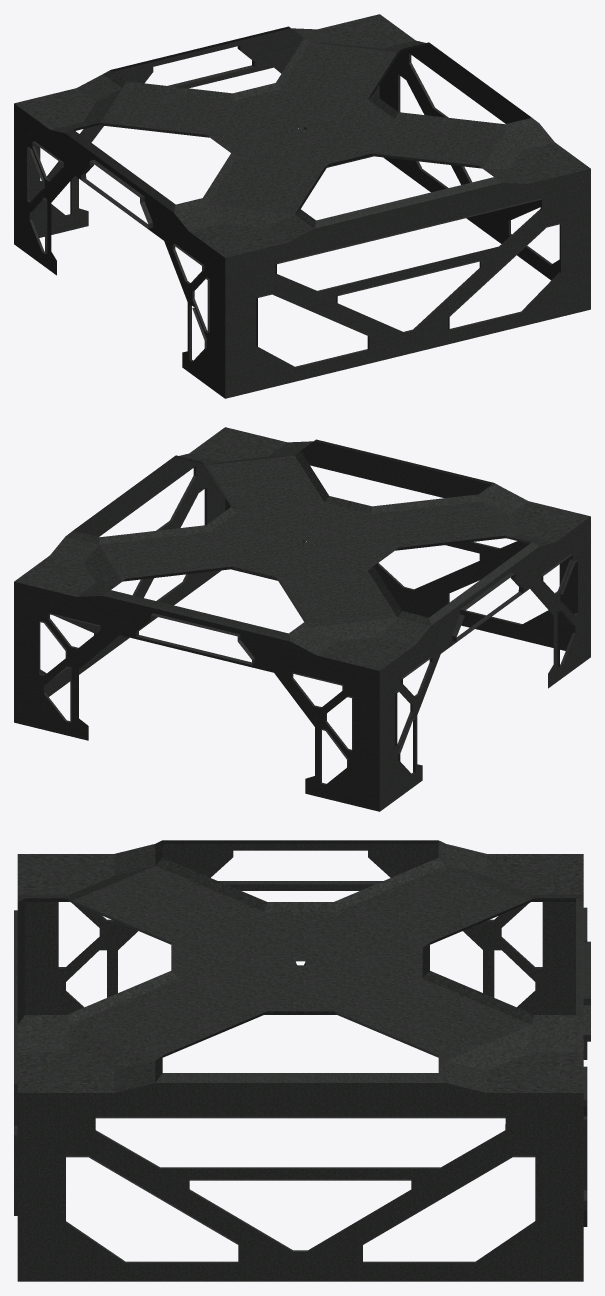
3 renders of one model, top to bottom at view 1: azimuth 30°, elevation 25°; view 2: azimuth 150°, elevation 25°; view 3: azimuth 270°, elevation 25°, orthographic. The views are drawn at different scales.
Parts seen in each view (by area): view 1: Corner1_2; view 2: Corner1_2; view 3: Corner1_2.
Part boxes in pixels (x1,y1,x2,y2): Corner1_2: (14, 14, 590, 398); Corner1_2: (14, 427, 590, 811); Corner1_2: (14, 840, 590, 1281).
Size of the model in its own units: 388 by 388 by 153.
